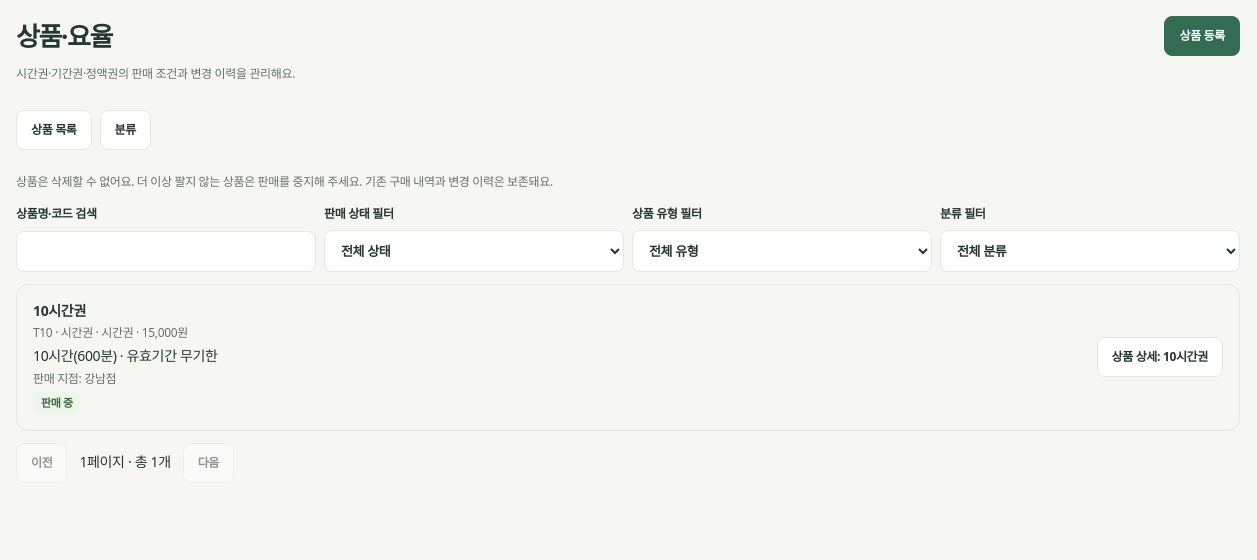
restricts category writes to the owner
Click the button "분류" at (125, 130), box [100,110,151,150]
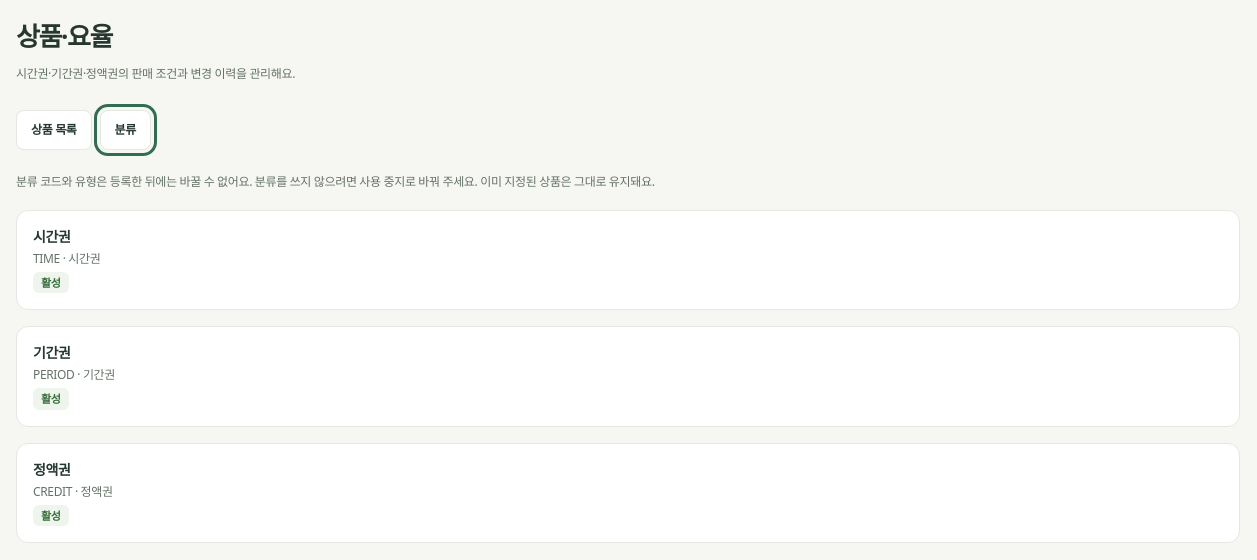
Now the text "PERIOD · 기간권" is shown, box [33,366,115,383]
